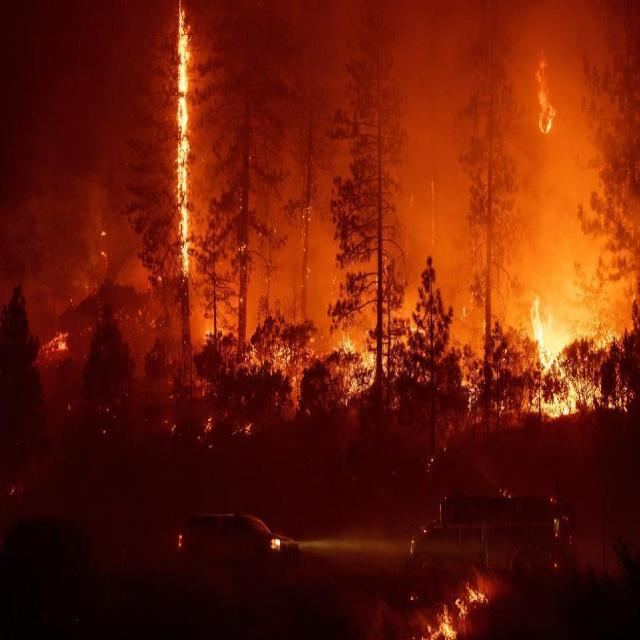Fire: (170, 9, 206, 300), (267, 336, 383, 421), (521, 308, 602, 424), (416, 585, 493, 638), (530, 56, 562, 144), (44, 328, 84, 362)
